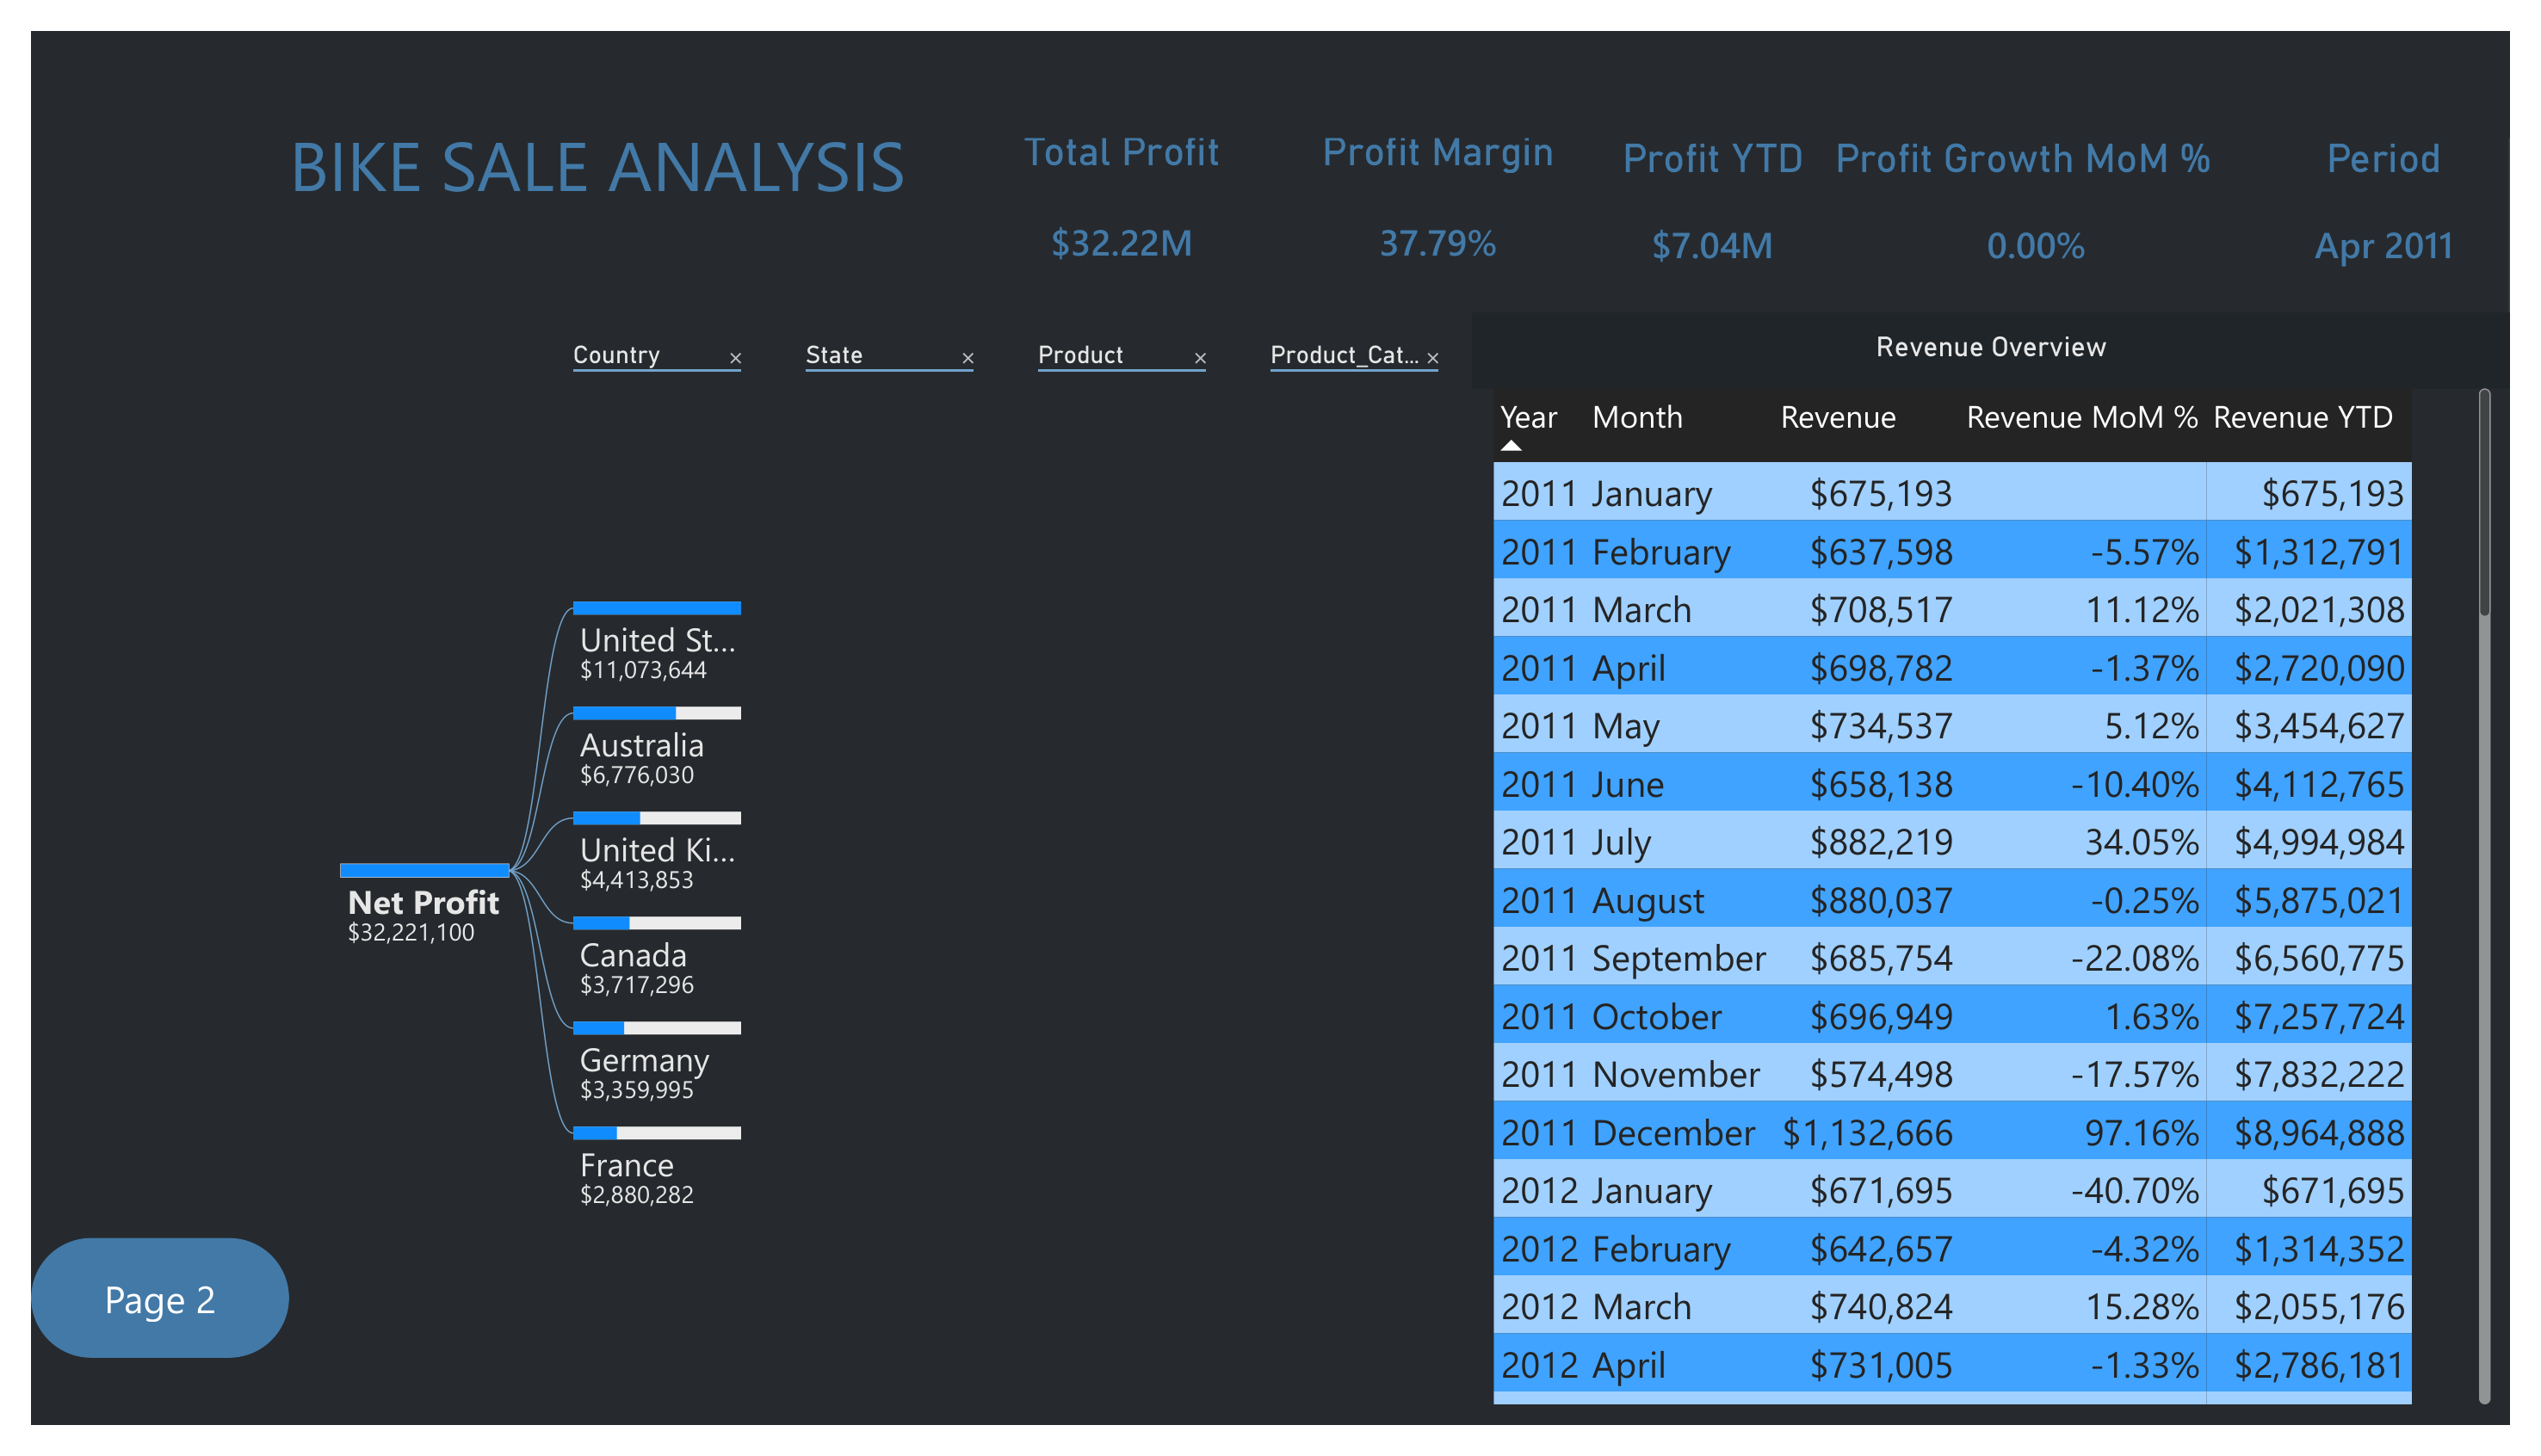

The page's visual inventory and layout, read from the dashboard file:
{"tool":"powerbi","page":{"name":"Net Profit and Revenue Overview","canvas":[1920,1080],"ordinal":1},"visuals":[{"type":"shape","box":[0,0,202.1,1080],"z":0},{"type":"decompositionTreeVisual","fields":{"Analyze":["Bike Sale.Net Pofit"],"ExplainBy":["Bike Sale.Country","Bike Sale.State","Bike Sale.Product","Bike Sale.Product_Category"]},"box":[198.9,217.9,959.2,862.1],"z":1000},{"type":"textbox","box":[199.9,65.9,551.9,152.2],"z":2000},{"type":"tableEx","title":"Revenue Overview","fields":{"Values":["Bike Sale.Date.Variation.Date Hierarchy.Year","Bike Sale.Date.Variation.Date Hierarchy.Month","Sum(Bike Sale.Revenue)","Bike Sale.Sum of Revenue MoM%","Bike Sale.Sum of Revenue YTD"]},"box":[1115.5,217.9,805.3,862.1],"z":3000},{"type":"actionButton","box":[0,935.4,200,92.3],"z":4000},{"type":"card","title":"Profit Margin","fields":{"Values":["Bike Sale.Profit Margin %"]},"box":[949.4,61.3,281.6,156.7],"z":5000},{"type":"card","title":"Profit YTD","fields":{"Values":["Bike Sale.Net Pofit YTD"]},"box":[1190.2,65.9,224.9,152.2],"z":6000},{"type":"card","title":"Profit Growth MoM %","fields":{"Values":["Bike Sale.Net Pofit MoM%"]},"box":[1381,65.9,345.2,152.2],"z":7000},{"type":"card","title":"Total Profit","fields":{"Values":["Sum(Bike Sale.Profit)"]},"box":[692.7,61.3,304.4,156.7],"z":8000},{"type":"shape","box":[201.3,0,1719.5,82.9],"z":9000},{"type":"card","title":"Period","fields":{"Values":["Min(Bike Sale.Month Year)"]},"box":[1726.2,65.9,193.1,152.2],"z":9001}]}

Visuals, with their boxes in screenshot pixels (x1, y1, x2, y2), scaled from the page's 1920x1080 canvas onto the 2541x1456 screenshot:
shape: box(0, 0, 268, 1455)
decompositionTreeVisual - Bike Sale.Net Pofit x Bike Sale.Country: box(263, 293, 1533, 1455)
textbox: box(264, 89, 995, 294)
"Revenue Overview" tableEx: box(1476, 293, 2540, 1455)
actionButton: box(0, 1261, 265, 1385)
"Profit Margin" card: box(1257, 83, 1629, 294)
"Profit YTD" card: box(1575, 89, 1873, 294)
"Profit Growth MoM %" card: box(1827, 89, 2284, 294)
"Total Profit" card: box(917, 83, 1320, 294)
shape: box(266, 0, 2540, 112)
"Period" card: box(2284, 89, 2540, 294)
